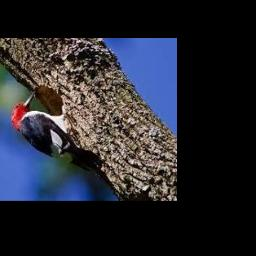Woodpecker: (11, 91, 102, 177)
